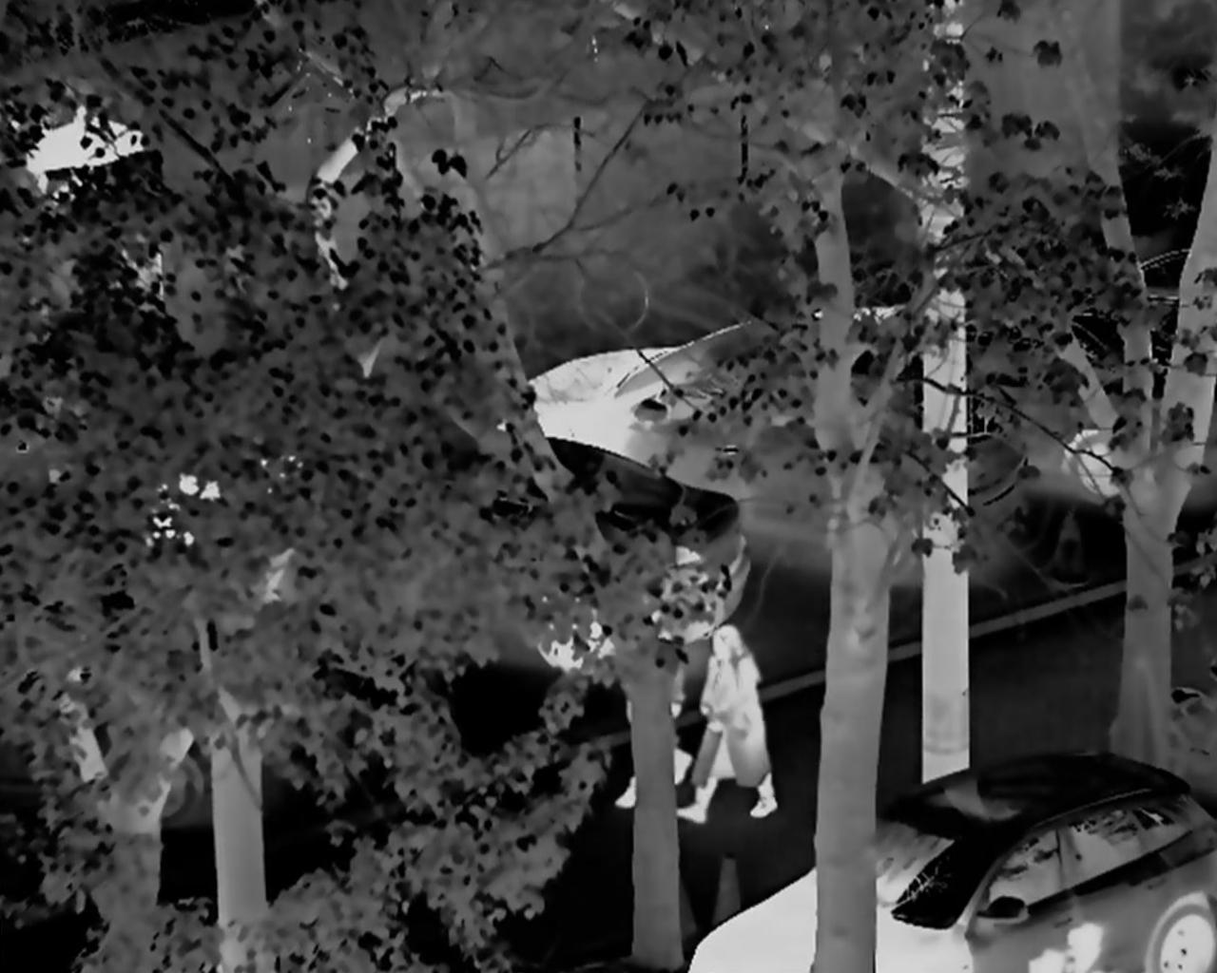person: (673, 618, 778, 830), (618, 637, 691, 821)
